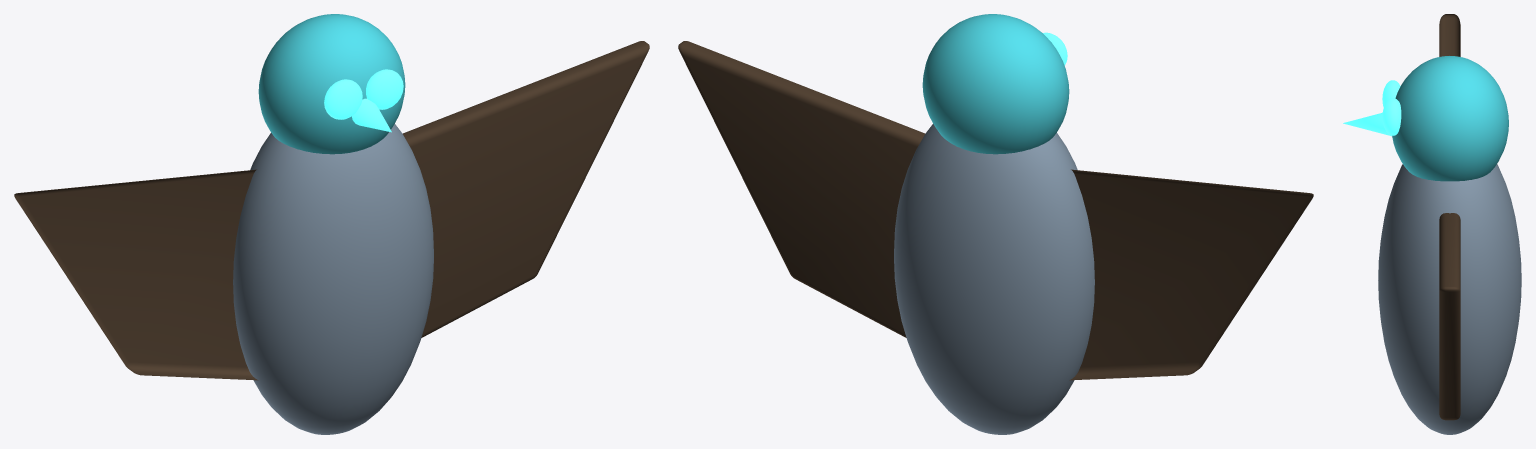
Rendered from avian_v7.glb.
3 views of the same model, side by side, from view 1: azimuth 30°, elevation 25°; view 2: azimuth 150°, elevation 25°; view 3: azimuth 270°, elevation 25° (orthographic). The views are drawn at different scales.
Parts seen in each view (by area): view 1: HAWK_BODY_PRIMARY, HAWK_WING_SECONDARY.001, HAWK_WING_SECONDARY, HAWK_HEAD_ACCENT, EYE_EMISSIVE, EYE_EMISSIVE.001, HAWK_BEAK_EMISSIVE; view 2: HAWK_BODY_PRIMARY, HAWK_WING_SECONDARY.001, HAWK_WING_SECONDARY, HAWK_HEAD_ACCENT; view 3: HAWK_BODY_PRIMARY, HAWK_HEAD_ACCENT, HAWK_WING_SECONDARY.001, HAWK_WING_SECONDARY, EYE_EMISSIVE.001, HAWK_BEAK_EMISSIVE, EYE_EMISSIVE.
Boxes of the visible parts, <box> form: HAWK_BODY_PRIMARY: <box>233,124,433,434</box>; HAWK_WING_SECONDARY.001: <box>403,41,649,337</box>; HAWK_WING_SECONDARY: <box>14,169,258,380</box>; HAWK_HEAD_ACCENT: <box>258,14,405,154</box>; EYE_EMISSIVE: <box>324,79,362,119</box>; EYE_EMISSIVE.001: <box>366,69,403,109</box>; HAWK_BEAK_EMISSIVE: <box>352,98,391,132</box>; HAWK_BODY_PRIMARY: <box>894,124,1094,434</box>; HAWK_WING_SECONDARY.001: <box>678,41,924,337</box>; HAWK_WING_SECONDARY: <box>1069,169,1313,380</box>; HAWK_HEAD_ACCENT: <box>922,14,1069,154</box>; HAWK_BODY_PRIMARY: <box>1378,164,1521,434</box>; HAWK_HEAD_ACCENT: <box>1392,56,1508,181</box>; HAWK_WING_SECONDARY.001: <box>1439,213,1460,420</box>; HAWK_WING_SECONDARY: <box>1439,14,1460,56</box>; EYE_EMISSIVE.001: <box>1382,98,1401,135</box>; HAWK_BEAK_EMISSIVE: <box>1343,112,1391,136</box>; EYE_EMISSIVE: <box>1382,80,1400,107</box>.
Bounding box in the file's own units: 3.08 × 1.92 × 0.85.
